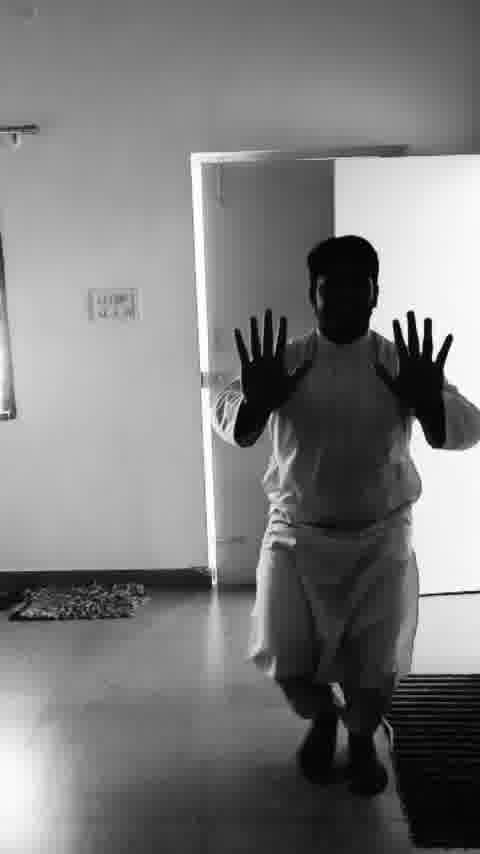duck: (188, 229, 480, 810)
